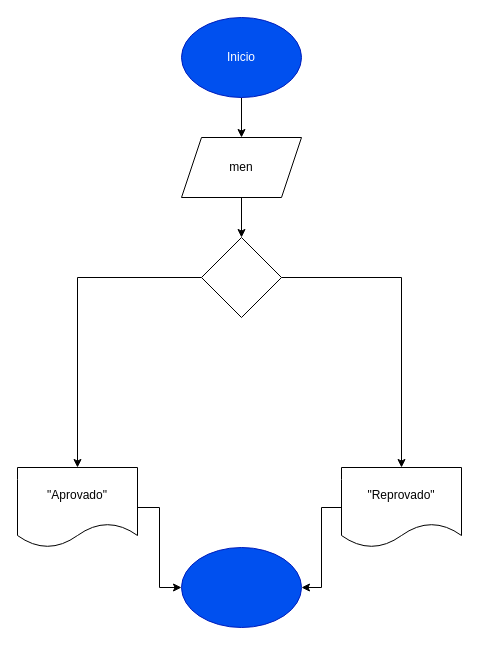
This 479x645 diagram has some shape labels left out. The shapes that lost their labels are listed below. From the top down, each one's box as (x1, y1, x2, y2) in pixels, then its label:
(200, 236, 282, 318): men = i men = r
(180, 546, 302, 628): Fim
